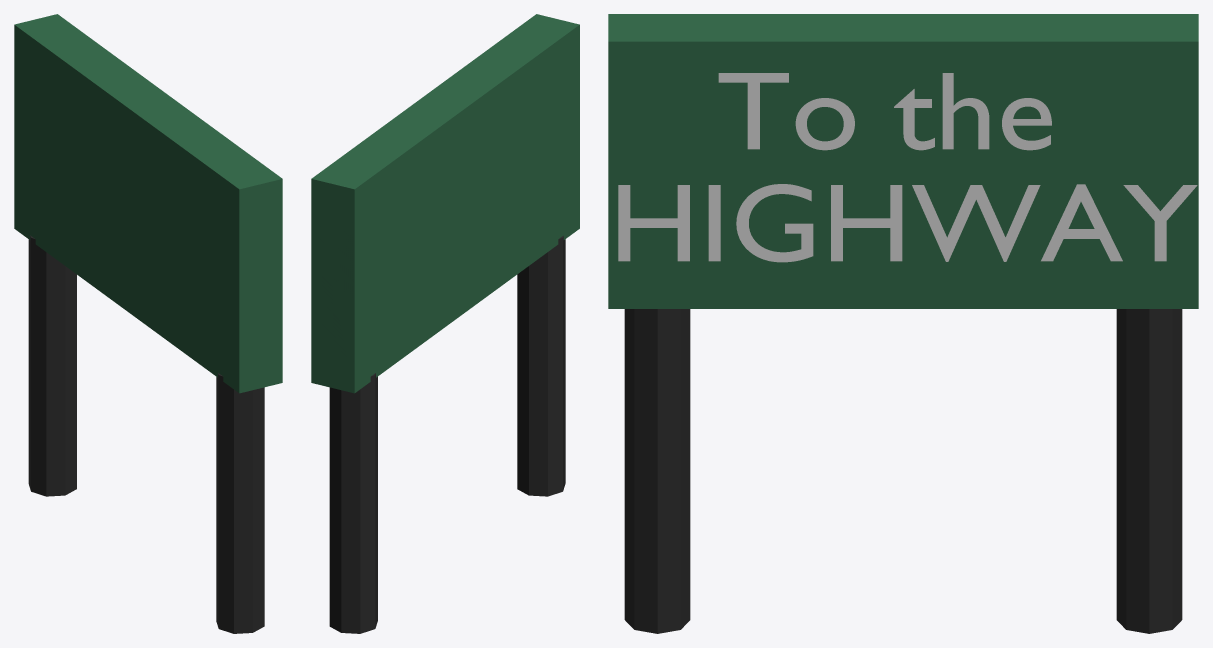
The model's file is HighwaySign.fbx.
3 views of the same model, side by side, from view 1: azimuth 30°, elevation 25°; view 2: azimuth 150°, elevation 25°; view 3: azimuth 270°, elevation 25° (orthographic). The views are drawn at different scales.
Visible parts, largest first — view 1: Cube, Cylinder.001, Cylinder; view 2: Cube, Cylinder, Cylinder.001; view 3: Cube, To the highway, Cylinder, Cylinder.001.
Part boxes in pixels (left/top/right/bottom): Cube: left=14, top=14, right=282, bottom=393; Cylinder.001: left=216, top=373, right=264, bottom=633; Cylinder: left=28, top=235, right=76, bottom=496; Cube: left=311, top=14, right=579, bottom=393; Cylinder: left=329, top=373, right=377, bottom=633; Cylinder.001: left=517, top=235, right=565, bottom=496; Cube: left=608, top=14, right=1198, bottom=308; To the highway: left=618, top=73, right=1197, bottom=262; Cylinder: left=1116, top=309, right=1182, bottom=633; Cylinder.001: left=624, top=309, right=690, bottom=633.
Bounding box in the file's own units: 1800 × 1997 × 211.
